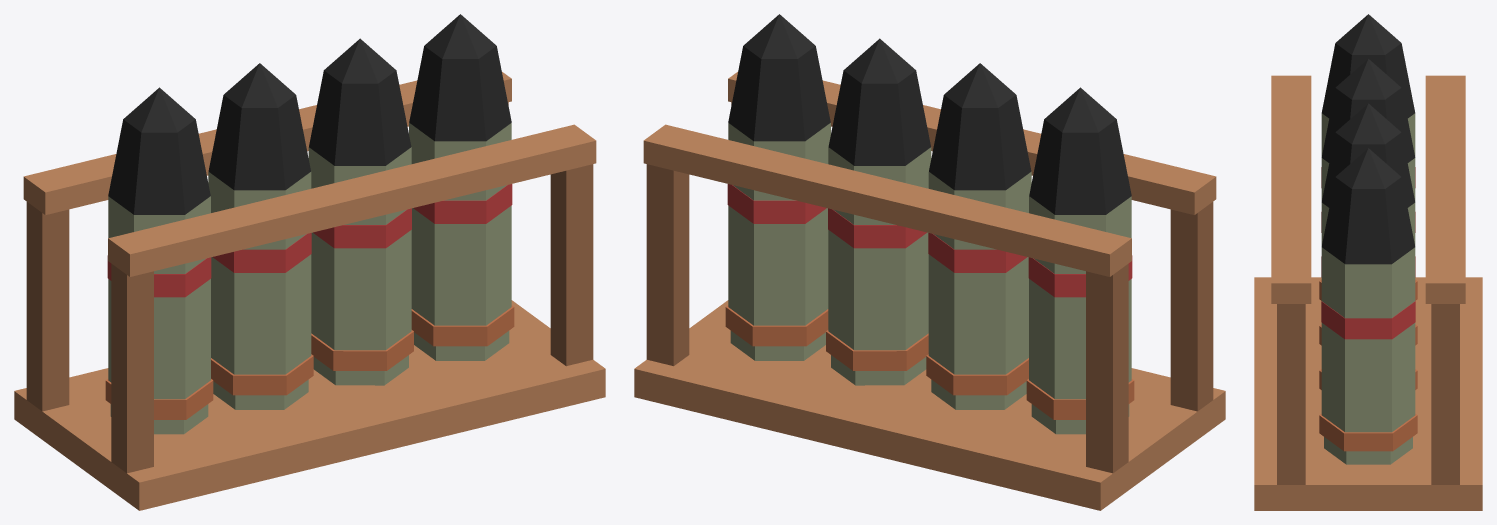
File: ce_ammo_artillery_ab_c.obj
3 renders of one model, left to right at view 1: azimuth 30°, elevation 25°; view 2: azimuth 150°, elevation 25°; view 3: azimuth 270°, elevation 25°, orthographic. The views are drawn at different scales.
Visible parts, largest first — view 1: ce_ammo_artillery_ab_c_0, ce_ammo_artillery_ab_c_1, ce_ammo_artillery_ab_c_23, ce_ammo_artillery_ab_c_16, ce_ammo_artillery_ab_c_30, ce_ammo_artillery_ab_c_4, ce_ammo_artillery_ab_c_5, ce_ammo_artillery_ab_c_3, ce_ammo_artillery_ab_c_19, ce_ammo_artillery_ab_c_33, ce_ammo_artillery_ab_c_12, ce_ammo_artillery_ab_c_26 (+22 smaller); view 2: ce_ammo_artillery_ab_c_0, ce_ammo_artillery_ab_c_2, ce_ammo_artillery_ab_c_23, ce_ammo_artillery_ab_c_16, ce_ammo_artillery_ab_c_30, ce_ammo_artillery_ab_c_3, ce_ammo_artillery_ab_c_6, ce_ammo_artillery_ab_c_4, ce_ammo_artillery_ab_c_19, ce_ammo_artillery_ab_c_33, ce_ammo_artillery_ab_c_12, ce_ammo_artillery_ab_c_26 (+22 smaller); view 3: ce_ammo_artillery_ab_c_0, ce_ammo_artillery_ab_c_1, ce_ammo_artillery_ab_c_2, ce_ammo_artillery_ab_c_30, ce_ammo_artillery_ab_c_33, ce_ammo_artillery_ab_c_5, ce_ammo_artillery_ab_c_6, ce_ammo_artillery_ab_c_32, ce_ammo_artillery_ab_c_19, ce_ammo_artillery_ab_c_26, ce_ammo_artillery_ab_c_12, ce_ammo_artillery_ab_c_31 (+9 smaller).
Part boxes in pixels (<box>): ce_ammo_artillery_ab_c_0: <box>14,300,605,510</box>; ce_ammo_artillery_ab_c_1: <box>108,124,596,276</box>; ce_ammo_artillery_ab_c_23: <box>311,230,411,350</box>; ce_ammo_artillery_ab_c_16: <box>211,254,311,374</box>; ce_ammo_artillery_ab_c_30: <box>411,205,511,325</box>; ce_ammo_artillery_ab_c_4: <box>26,202,69,411</box>; ce_ammo_artillery_ab_c_5: <box>550,164,593,366</box>; ce_ammo_artillery_ab_c_3: <box>111,263,153,473</box>; ce_ammo_artillery_ab_c_19: <box>208,95,310,190</box>; ce_ammo_artillery_ab_c_33: <box>409,46,511,141</box>; ce_ammo_artillery_ab_c_12: <box>108,119,210,214</box>; ce_ammo_artillery_ab_c_26: <box>309,70,411,165</box>; ce_ammo_artillery_ab_c_0: <box>634,300,1225,510</box>; ce_ammo_artillery_ab_c_2: <box>643,124,1131,276</box>; ce_ammo_artillery_ab_c_23: <box>828,230,928,350</box>; ce_ammo_artillery_ab_c_16: <box>928,254,1028,374</box>; ce_ammo_artillery_ab_c_30: <box>728,205,828,325</box>; ce_ammo_artillery_ab_c_3: <box>1170,202,1213,411</box>; ce_ammo_artillery_ab_c_6: <box>646,164,689,366</box>; ce_ammo_artillery_ab_c_4: <box>1086,263,1128,473</box>; ce_ammo_artillery_ab_c_19: <box>929,95,1031,190</box>; ce_ammo_artillery_ab_c_33: <box>728,46,830,141</box>; ce_ammo_artillery_ab_c_12: <box>1029,119,1131,214</box>; ce_ammo_artillery_ab_c_26: <box>828,70,930,165</box>; ce_ammo_artillery_ab_c_0: <box>1254,277,1482,510</box>; ce_ammo_artillery_ab_c_1: <box>1271,75,1311,303</box>; ce_ammo_artillery_ab_c_2: <box>1425,75,1465,303</box>; ce_ammo_artillery_ab_c_30: <box>1321,323,1415,432</box>; ce_ammo_artillery_ab_c_33: <box>1321,177,1415,264</box>; ce_ammo_artillery_ab_c_5: <box>1277,304,1305,484</box>; ce_ammo_artillery_ab_c_6: <box>1431,304,1459,484</box>; ce_ammo_artillery_ab_c_32: <box>1321,247,1415,318</box>; ce_ammo_artillery_ab_c_19: <box>1321,88,1415,162</box>; ce_ammo_artillery_ab_c_26: <box>1321,132,1415,207</box>; ce_ammo_artillery_ab_c_12: <box>1321,43,1415,118</box>; ce_ammo_artillery_ab_c_31: <box>1321,301,1415,339</box>.
Size of the model in its own units: 0.86 by 0.63 by 0.4.
